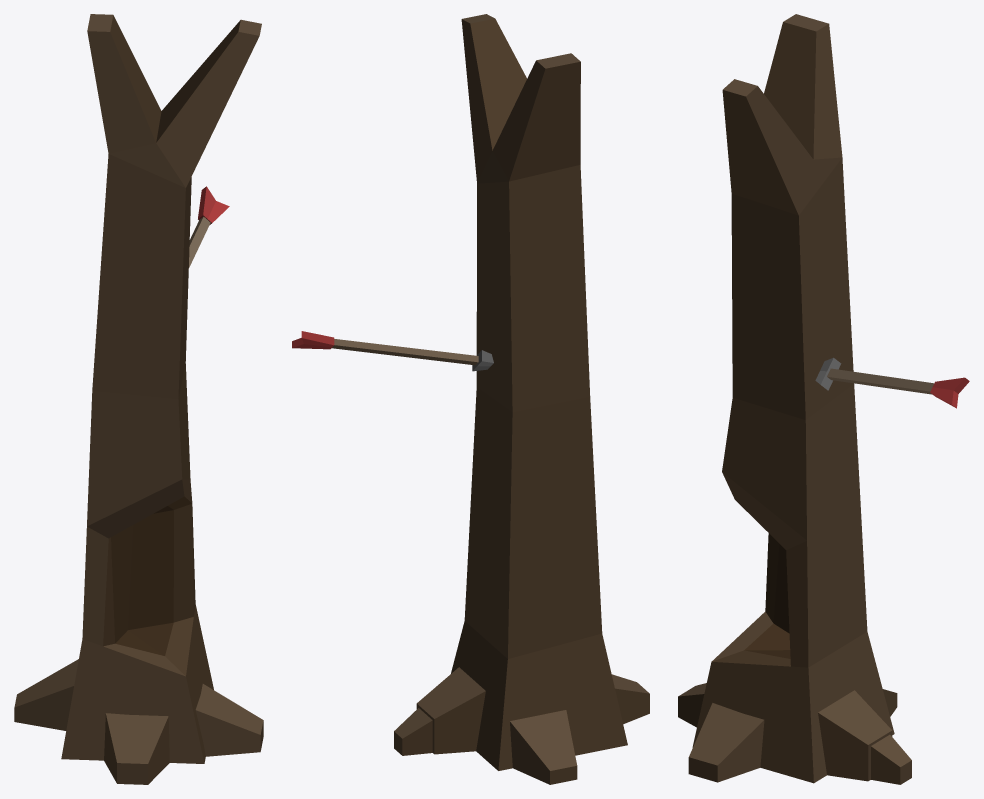
The model's file is SmallMore_SF_Env_Swamp_Tree_04.fbx.
3 views of the same model, side by side, from view 1: azimuth 30°, elevation 25°; view 2: azimuth 150°, elevation 25°; view 3: azimuth 270°, elevation 25° (orthographic). The views are drawn at different scales.
Visible parts, largest first — view 1: SF_Env_Swamp_Tree_04; view 2: SF_Env_Swamp_Tree_04; view 3: SF_Env_Swamp_Tree_04.
Part boxes in pixels (x1,y1,x2,y2): SF_Env_Swamp_Tree_04: (14,14,263,784); SF_Env_Swamp_Tree_04: (292,14,649,784); SF_Env_Swamp_Tree_04: (678,14,969,784).
Size of the model in its own units: 132 by 345 by 130.
